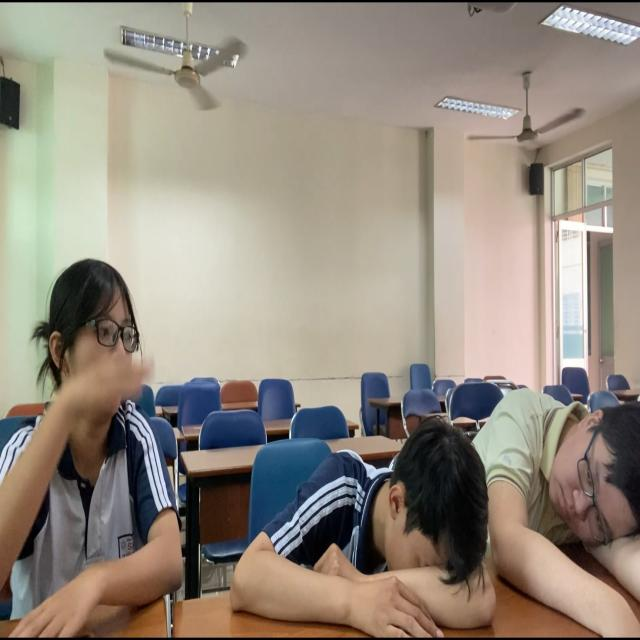sleep: (235, 421, 491, 640), (493, 386, 640, 640)
